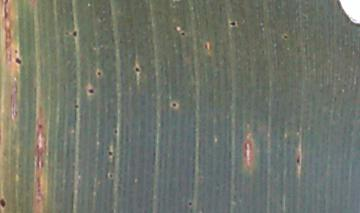tarspot: (130, 63, 146, 76), (68, 27, 82, 40), (279, 30, 293, 43), (227, 17, 239, 31), (13, 56, 26, 68), (168, 99, 181, 111), (109, 126, 122, 138), (85, 86, 98, 97), (1, 194, 10, 209), (104, 147, 115, 159), (72, 101, 83, 113), (94, 68, 105, 80), (184, 199, 198, 208), (293, 155, 304, 165), (177, 28, 187, 38)
